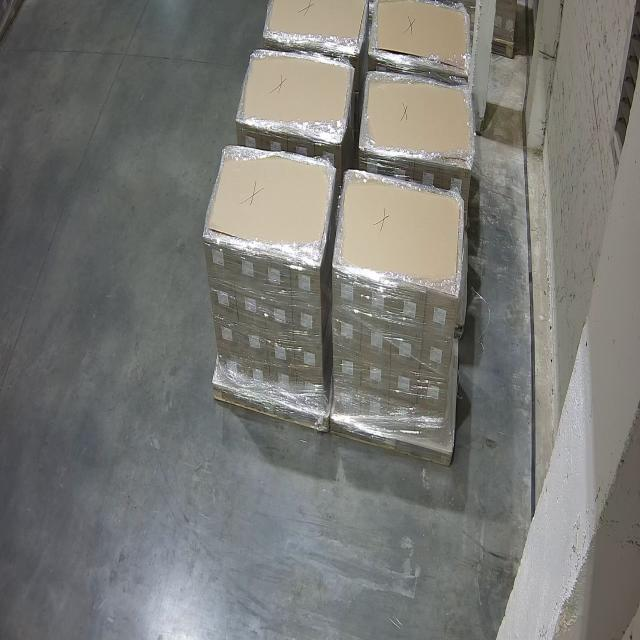pallet: (330, 168, 464, 299), (204, 143, 336, 269), (362, 67, 476, 168), (236, 48, 354, 140), (369, 0, 469, 80), (262, 0, 369, 51)
